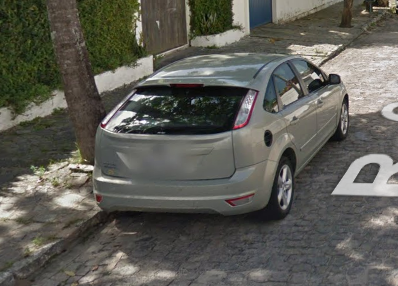car: (91, 50, 352, 223)
